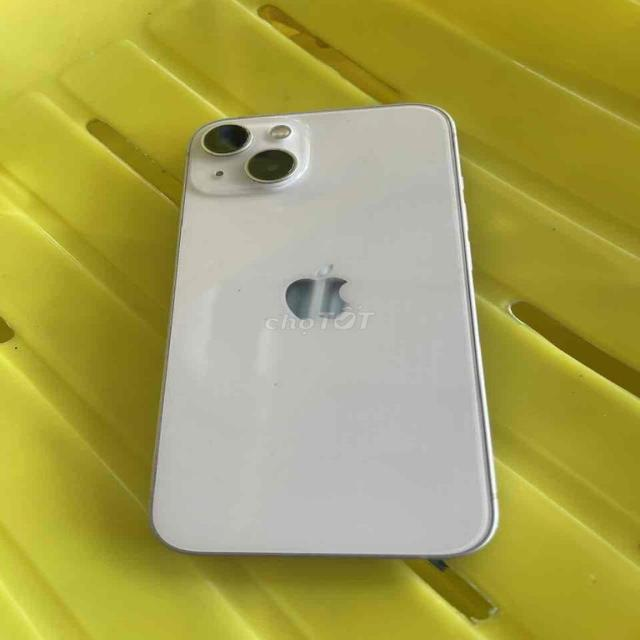gen_12_13: (138, 102, 509, 560)
